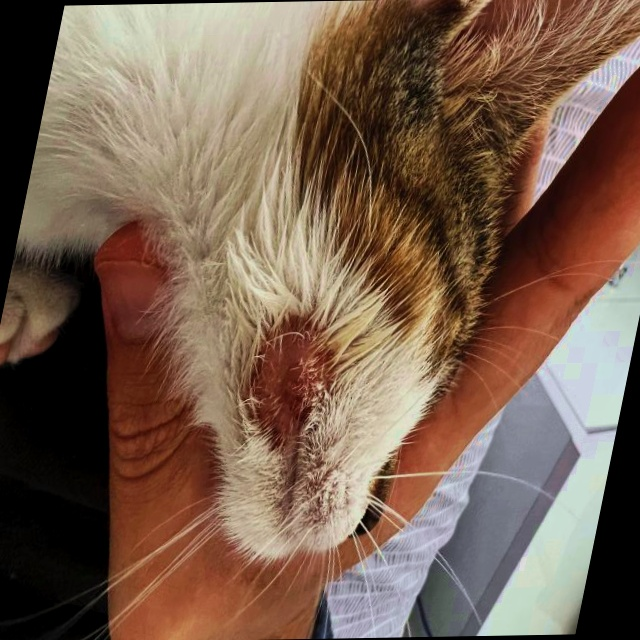ringworm: (236, 303, 345, 432)
